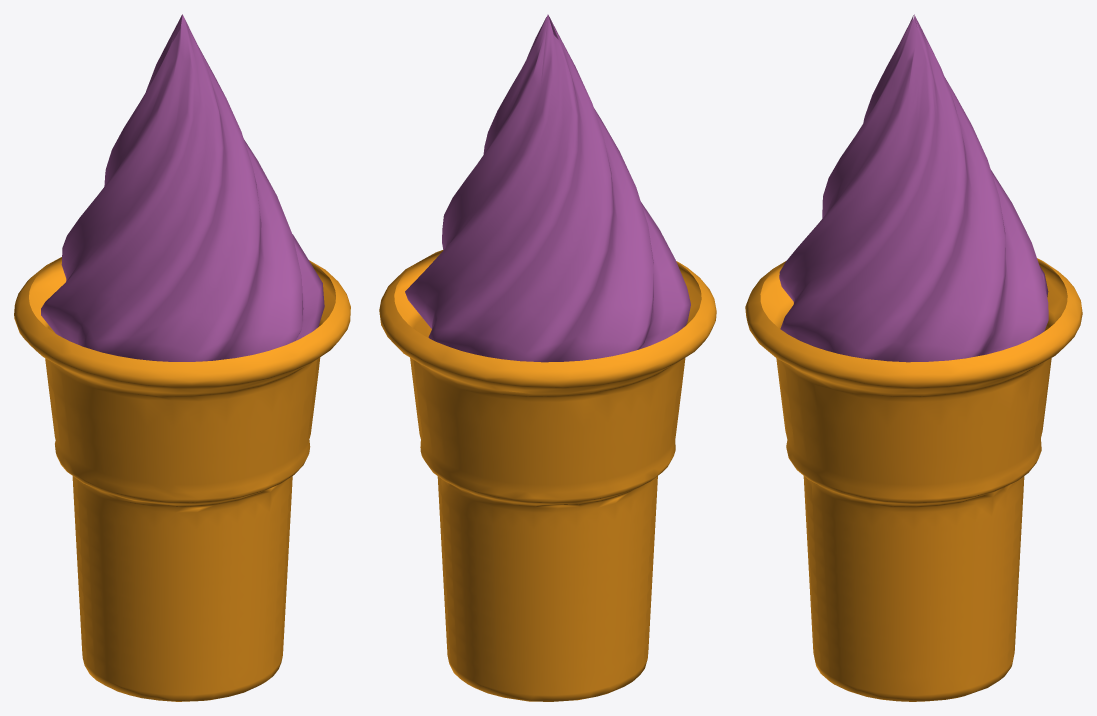
Rendered from IceCream.fbx.
3 renders of one model, left to right at view 1: azimuth 30°, elevation 25°; view 2: azimuth 150°, elevation 25°; view 3: azimuth 270°, elevation 25°, orthographic.
Parts seen in each view (by area): view 1: IceCream; view 2: IceCream; view 3: IceCream.
Boxes of the visible parts, x1,y1,x2,y2 form: IceCream: (14,14,350,701); IceCream: (379,14,716,701); IceCream: (745,14,1082,701).
Size of the model in its own units: 39.83 by 84.31 by 39.82.
